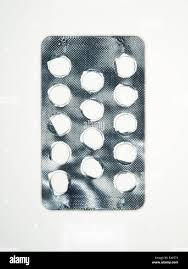pill_Strip: (41, 36, 144, 209), (48, 84, 72, 107), (47, 55, 70, 77), (80, 127, 103, 149), (81, 70, 103, 93), (80, 99, 103, 121), (48, 113, 71, 135), (113, 141, 136, 163), (114, 84, 137, 106), (115, 53, 136, 77), (48, 170, 68, 195), (114, 112, 136, 134), (50, 141, 71, 164), (81, 156, 102, 178), (114, 172, 136, 192)
